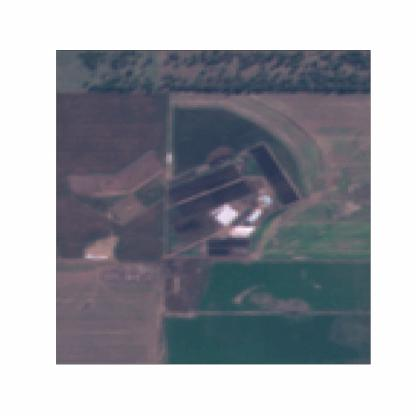silobolsa: (229, 225, 259, 239), (220, 210, 237, 226), (214, 207, 232, 222), (247, 207, 262, 224), (210, 203, 228, 217)
